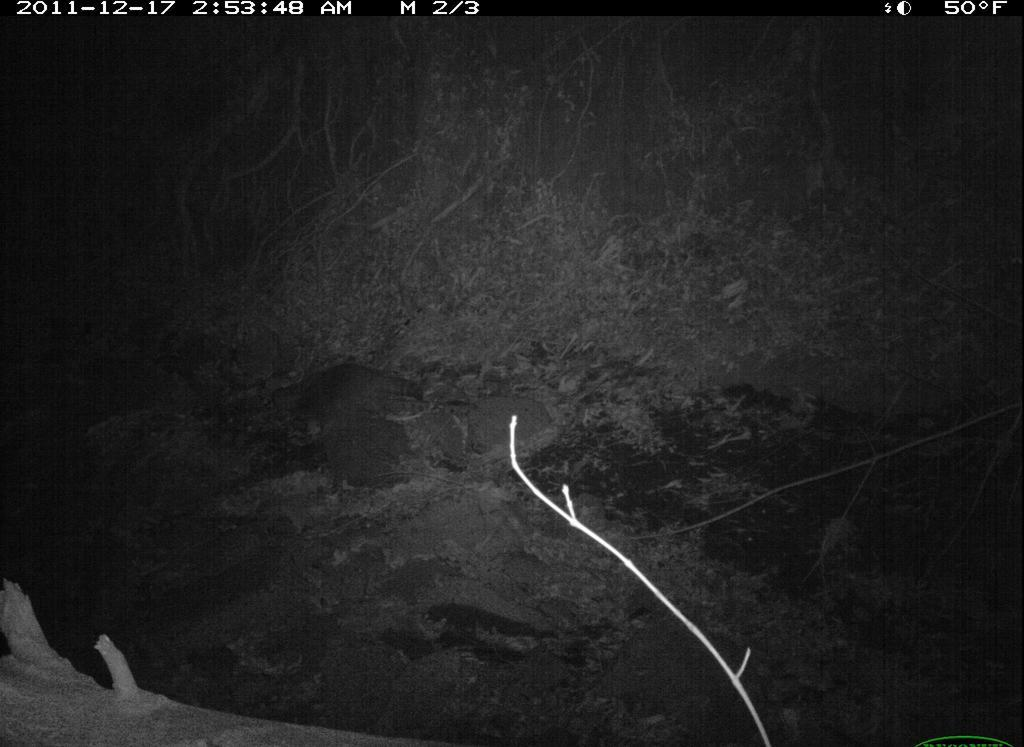raccoon: (282, 346, 446, 454)
